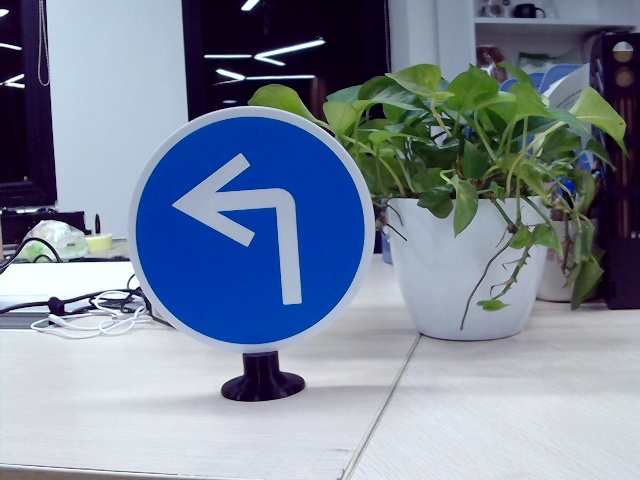turn_left: (174, 148, 315, 317)
